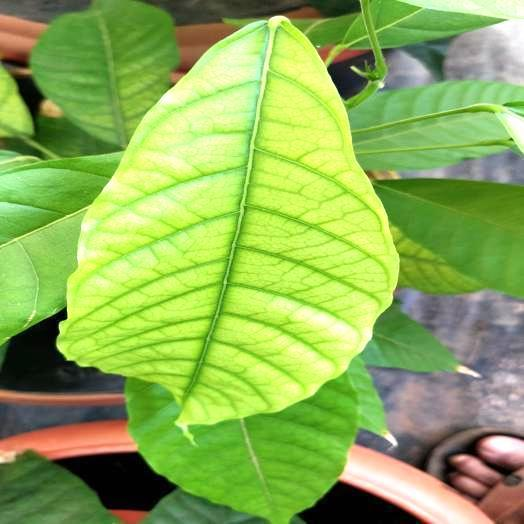Healthy Leaf: (126, 375, 356, 523), (0, 153, 119, 344), (375, 178, 523, 296), (361, 302, 461, 372)
Iron: (59, 17, 397, 426), (31, 0, 178, 147), (392, 226, 487, 294)
